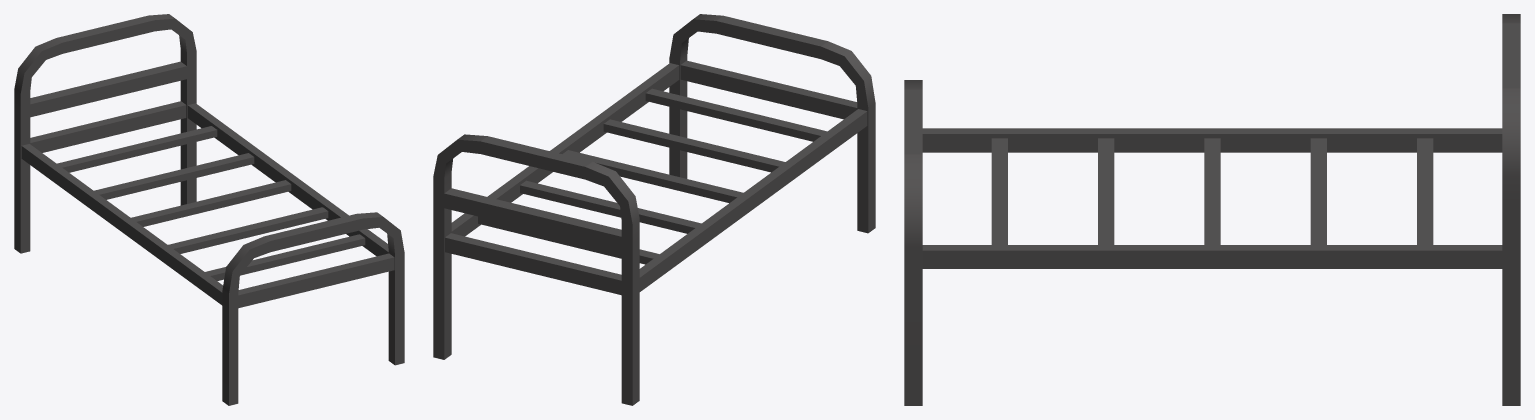
File: SM_Prop_Bed_Military_Frame_01.fbx
The picture shows the model from 3 angles, left to right: view 1: azimuth 30°, elevation 25°; view 2: azimuth 150°, elevation 25°; view 3: azimuth 270°, elevation 25°; orthographic projection. The views are drawn at different scales.
Visible parts, largest first — view 1: SM_Prop_Bed_Military_Frame_01; view 2: SM_Prop_Bed_Military_Frame_01; view 3: SM_Prop_Bed_Military_Frame_01.
Boxes of the visible parts, <box> form: SM_Prop_Bed_Military_Frame_01: <box>14,14,404,405</box>; SM_Prop_Bed_Military_Frame_01: <box>433,14,875,405</box>; SM_Prop_Bed_Military_Frame_01: <box>904,14,1520,405</box>.
Bounding box in the file's own units: 106 × 116 × 224.
